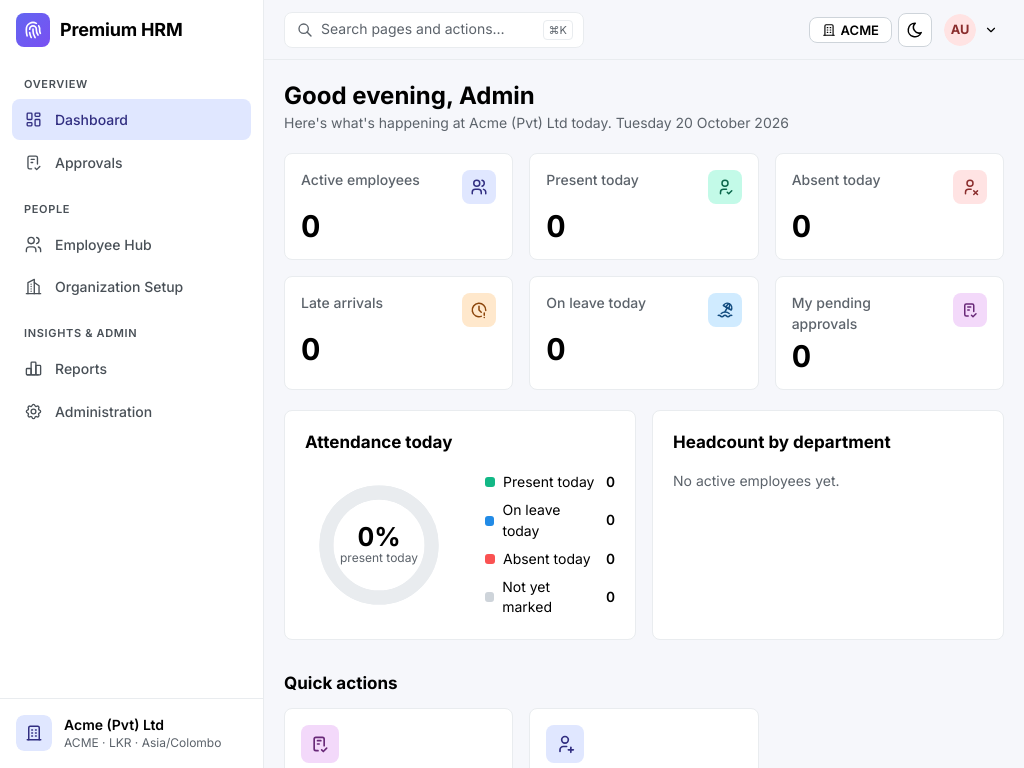
Test: AppLayout › shows the working company and opens the account menu
Expected: the text "Acme (Pvt) Ltd" is shown, [64,716,164,733]
Click the button "AU" at (971, 30), box [938,10,1004,50]
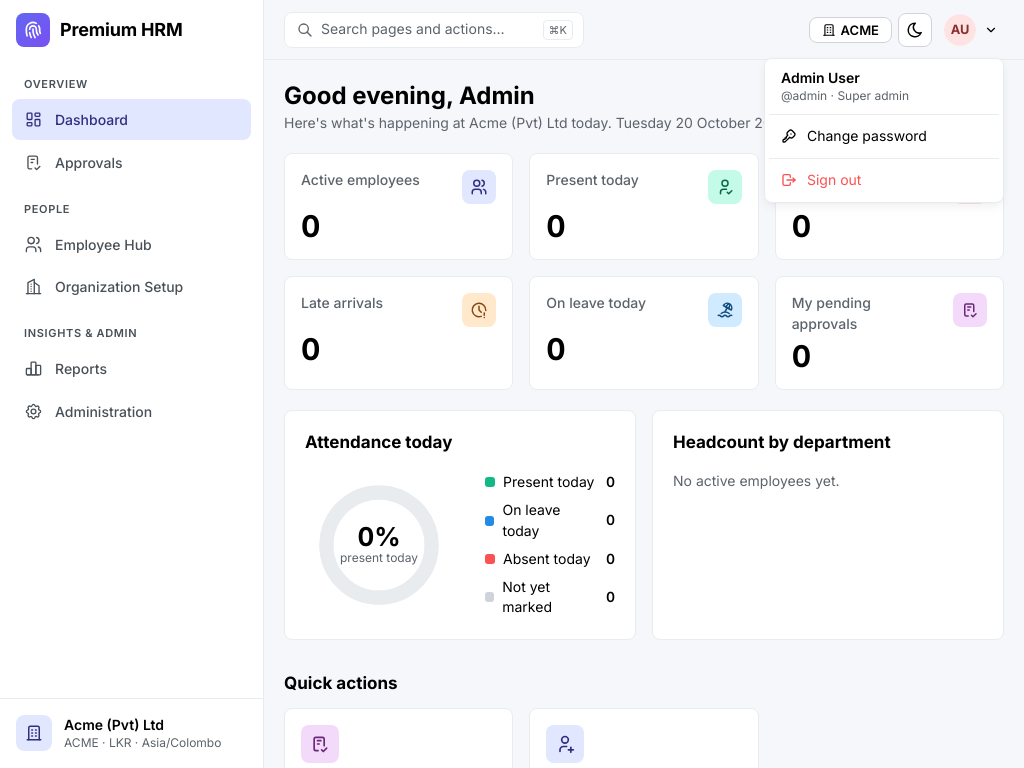
Result: the menu item "Sign out" is shown at [769,163,999,198]
Result: the text "@admin · Super admin" is shown at [781,88,909,103]
